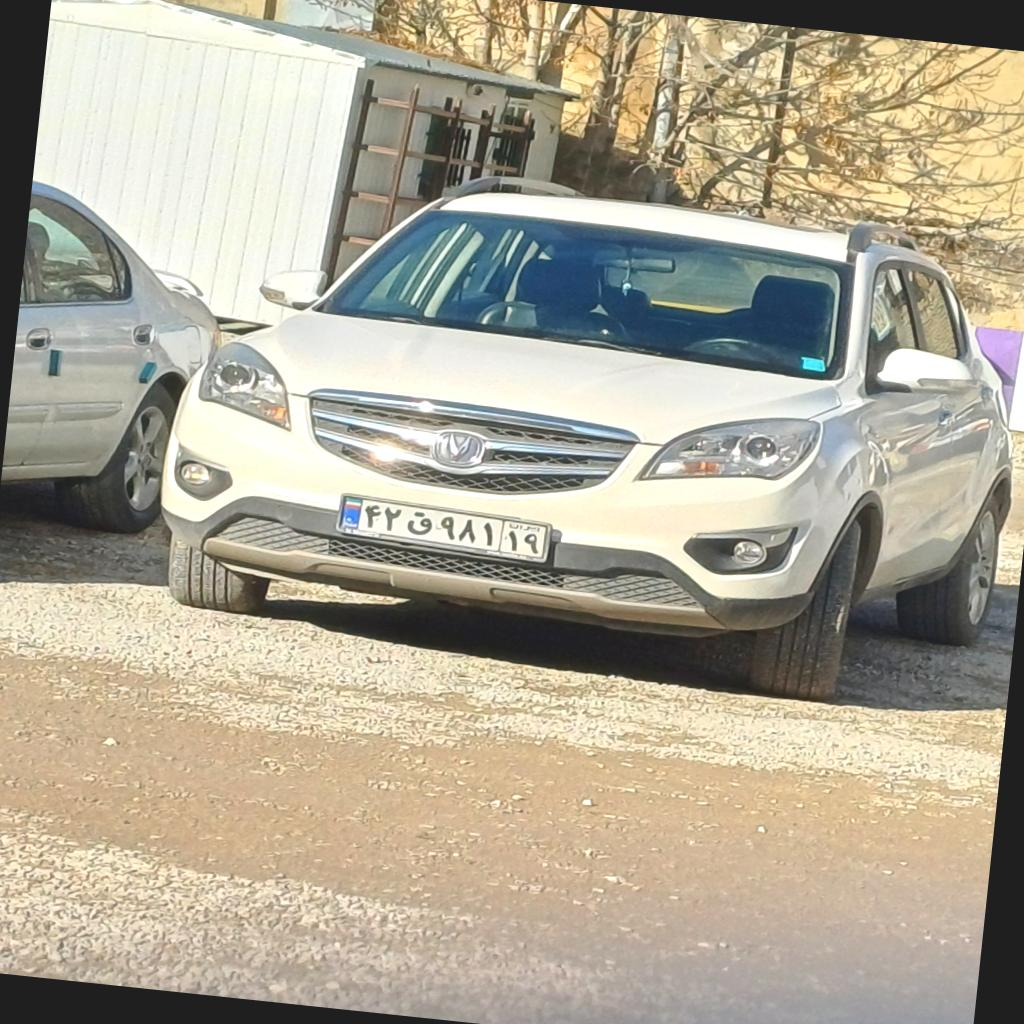Plates: (339, 495, 547, 557)
